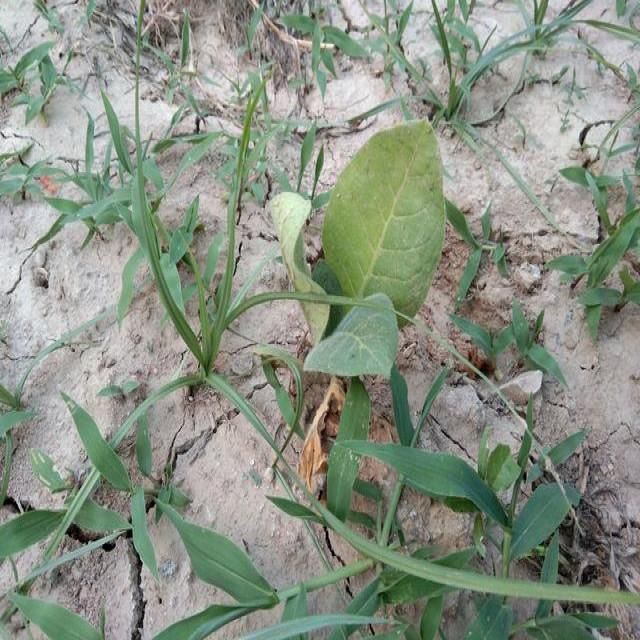crop: (273, 127, 455, 388)
